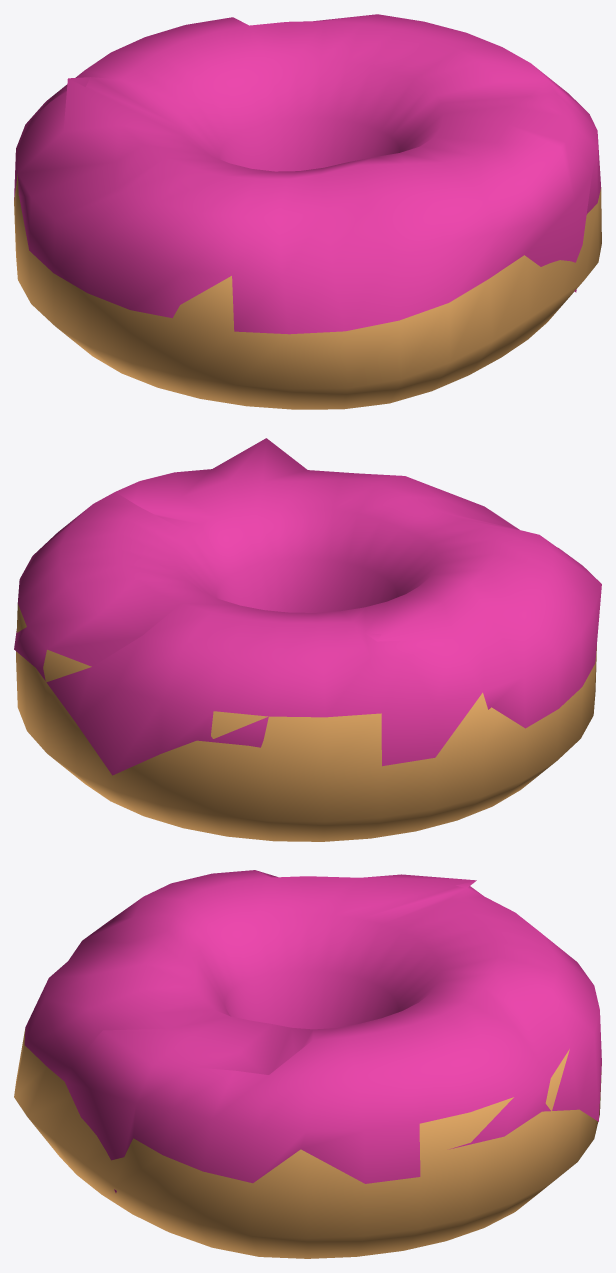
The picture shows the model from 3 angles, top to bottom: view 1: azimuth 30°, elevation 25°; view 2: azimuth 150°, elevation 25°; view 3: azimuth 270°, elevation 25°; orthographic projection. The views are drawn at different scales.
Visible parts, largest first — view 1: icing, donut.001; view 2: icing, donut.001; view 3: icing, donut.001.
Part boxes in pixels (box(x1,y1,x2,y2)): icing: box(14, 14, 600, 334); donut.001: box(14, 174, 601, 409); icing: box(14, 438, 601, 775); donut.001: box(16, 603, 596, 841); icing: box(24, 870, 601, 1192); donut.001: box(14, 1029, 601, 1258).
Size of the model in its own units: 3.36 by 1.33 by 3.34.
